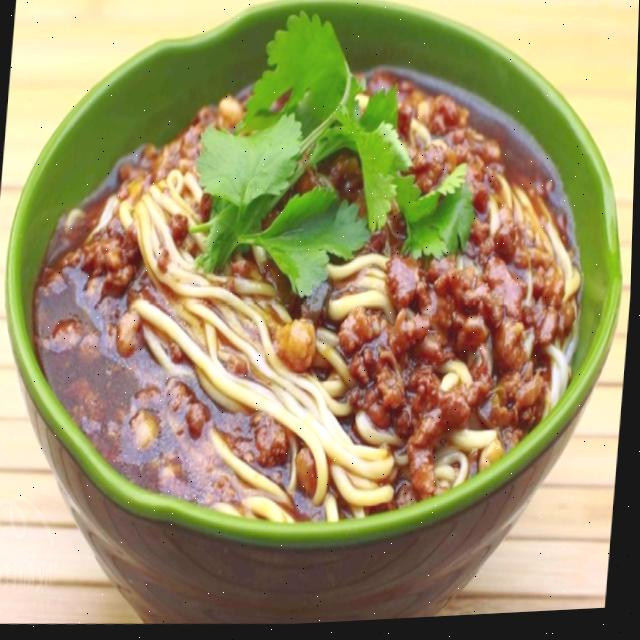面条主食: (0, 0, 637, 606)
